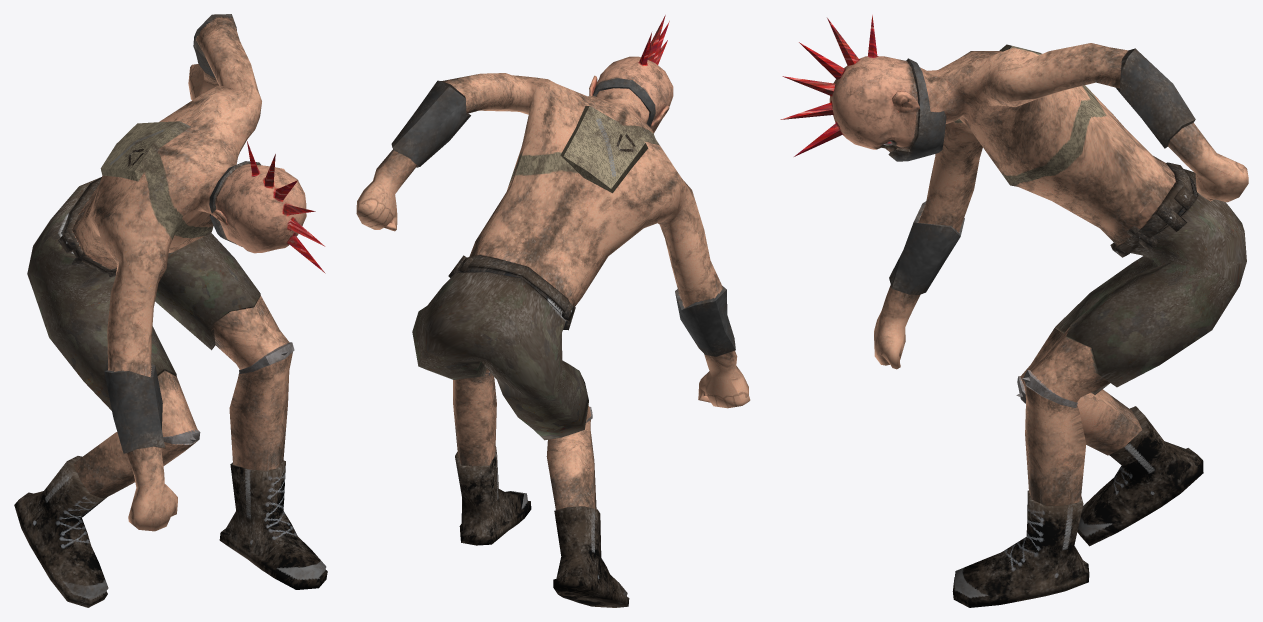
Rendered from Anim_cogerobjeto_npc2.0027.obj.
3 renders of one model, left to right at view 1: azimuth 30°, elevation 25°; view 2: azimuth 150°, elevation 25°; view 3: azimuth 270°, elevation 25°, orthographic. The views are drawn at different scales.
Parts seen in each view (by area): view 1: polySurface1; view 2: polySurface1; view 3: polySurface1.
Boxes of the visible parts, <box> form: polySurface1: <box>14,14,327,607</box>; polySurface1: <box>356,15,750,607</box>; polySurface1: <box>780,15,1248,607</box>.
Bounding box in the file's own units: 3.37 × 6.94 × 5.23.
